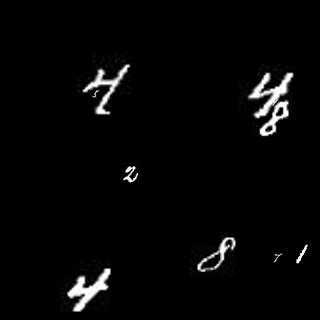eight: (258, 101, 297, 138), (197, 236, 237, 272)
five: (91, 88, 102, 98)
four: (78, 60, 134, 121), (245, 69, 293, 118), (70, 269, 113, 315)
one: (295, 241, 311, 265)
seven: (272, 250, 282, 263)
two: (122, 162, 139, 186)
